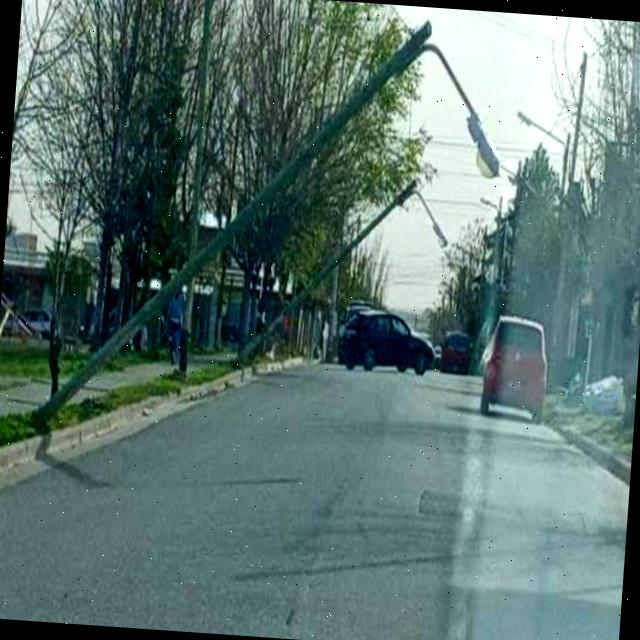Broken Pole: (23, 11, 505, 430), (229, 166, 449, 363)
